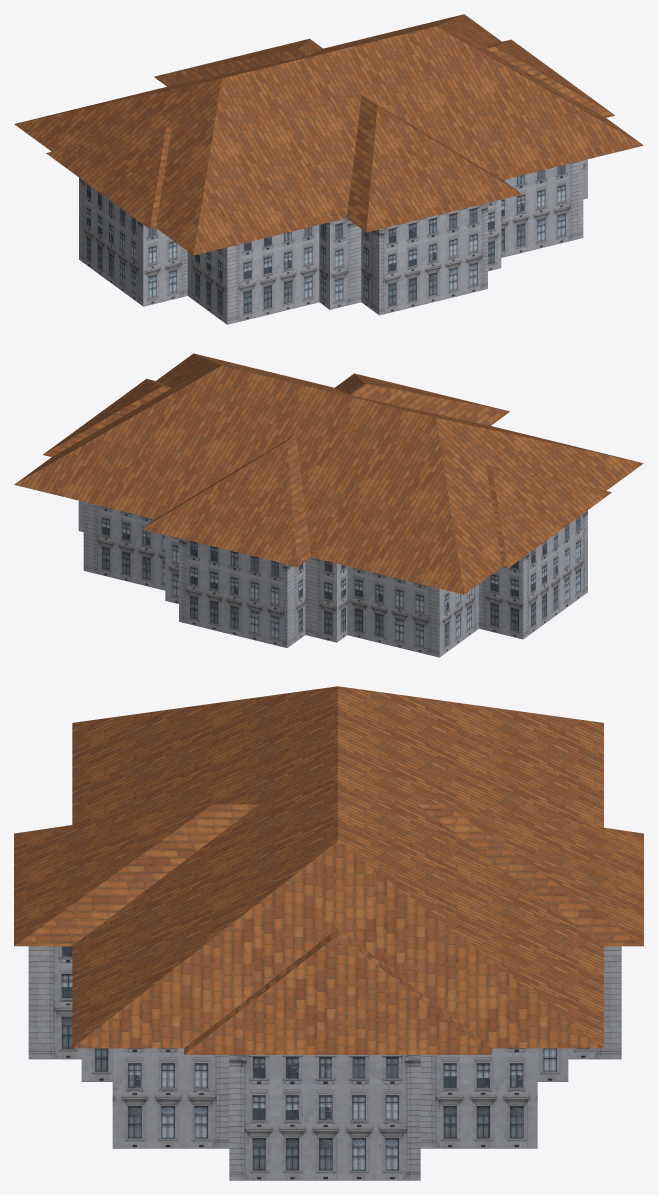
The model's file is builder_14.FBX.
3 renders of one model, top to bottom at view 1: azimuth 30°, elevation 25°; view 2: azimuth 150°, elevation 25°; view 3: azimuth 270°, elevation 25°, orthographic. The views are drawn at different scales.
Parts seen in each view (by area): view 1: builder_14; view 2: builder_14; view 3: builder_14.
Part boxes in pixels (x1,y1,x2,y2): builder_14: [14, 14, 643, 324]; builder_14: [14, 353, 643, 657]; builder_14: [14, 686, 643, 1180].
Size of the model in its own units: 42348 by 15050 by 33515.
